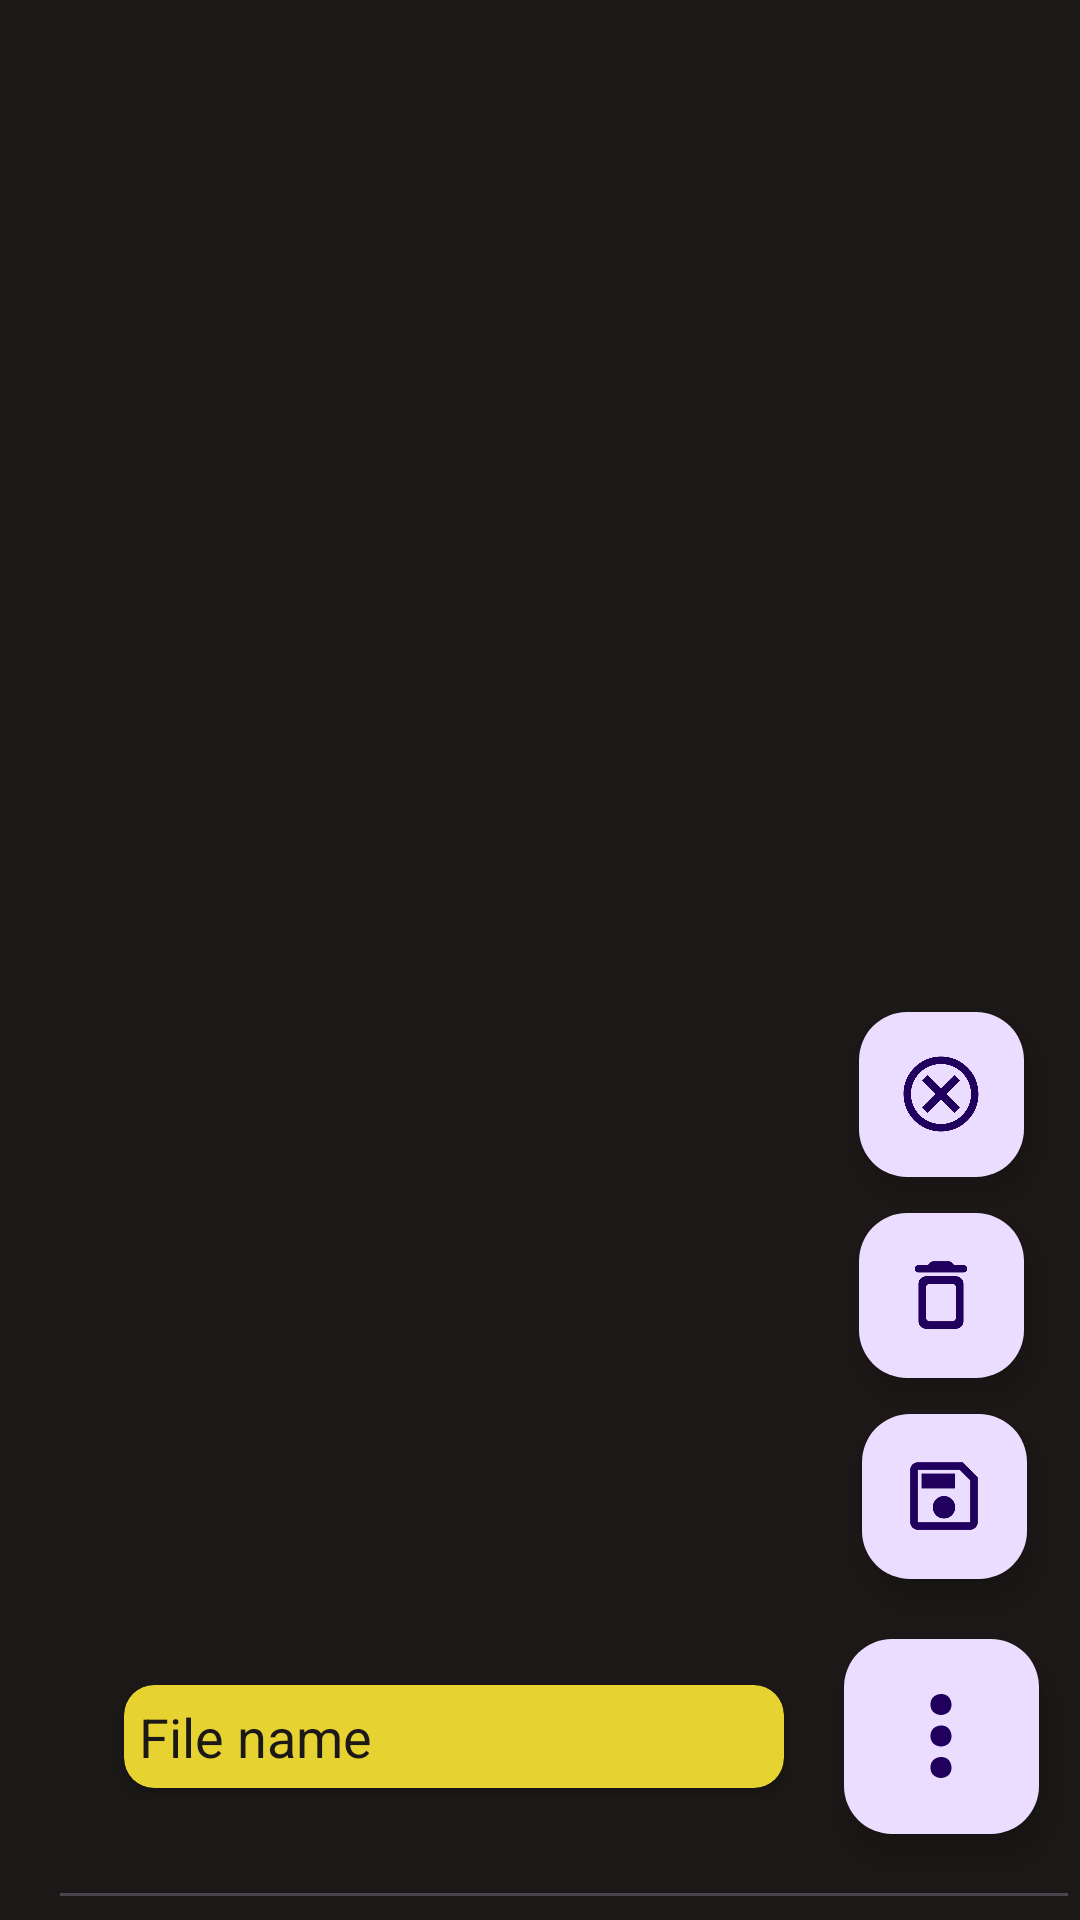

Icons on this 1080px x 1920px Android screen, each with the point to tap as point (x, y):
cancel: point (941, 1094)
delete: point (941, 1295)
options: point (941, 1736)
save: point (944, 1496)
